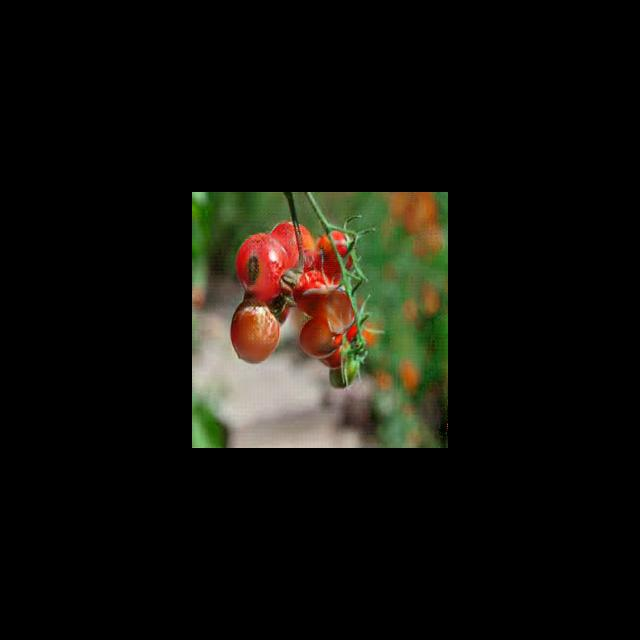tomato: (234, 231, 290, 299), (230, 301, 281, 367)
